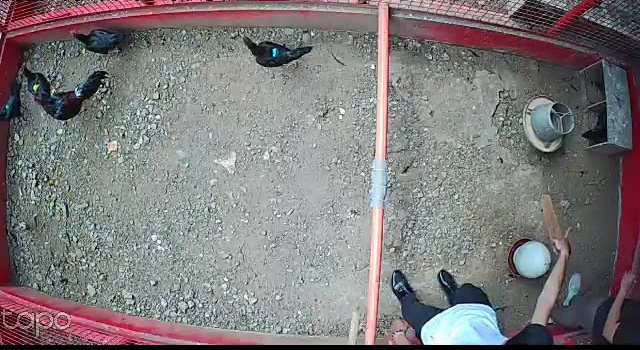Chicken: (241, 34, 314, 69), (0, 75, 30, 126), (20, 65, 58, 104)
Rooster: (32, 67, 108, 124)
Saddle_Color_Blue: (272, 47, 277, 58)
Saddle_Color_Yellow: (34, 82, 39, 91)
